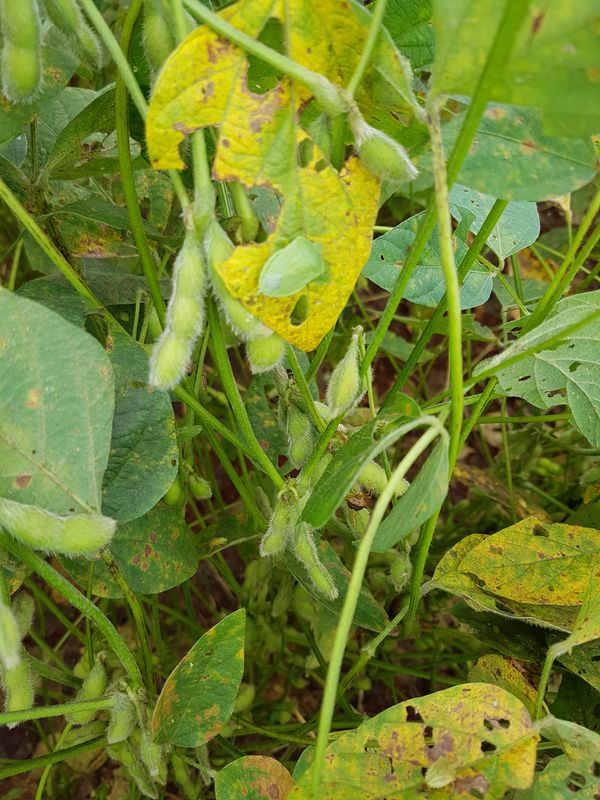Euschistus_heros_adulto: (339, 482, 378, 515)
Euschistus_heros_ninfa: (417, 751, 462, 793)
Nezara_viridula_adulto: (252, 231, 335, 300)
